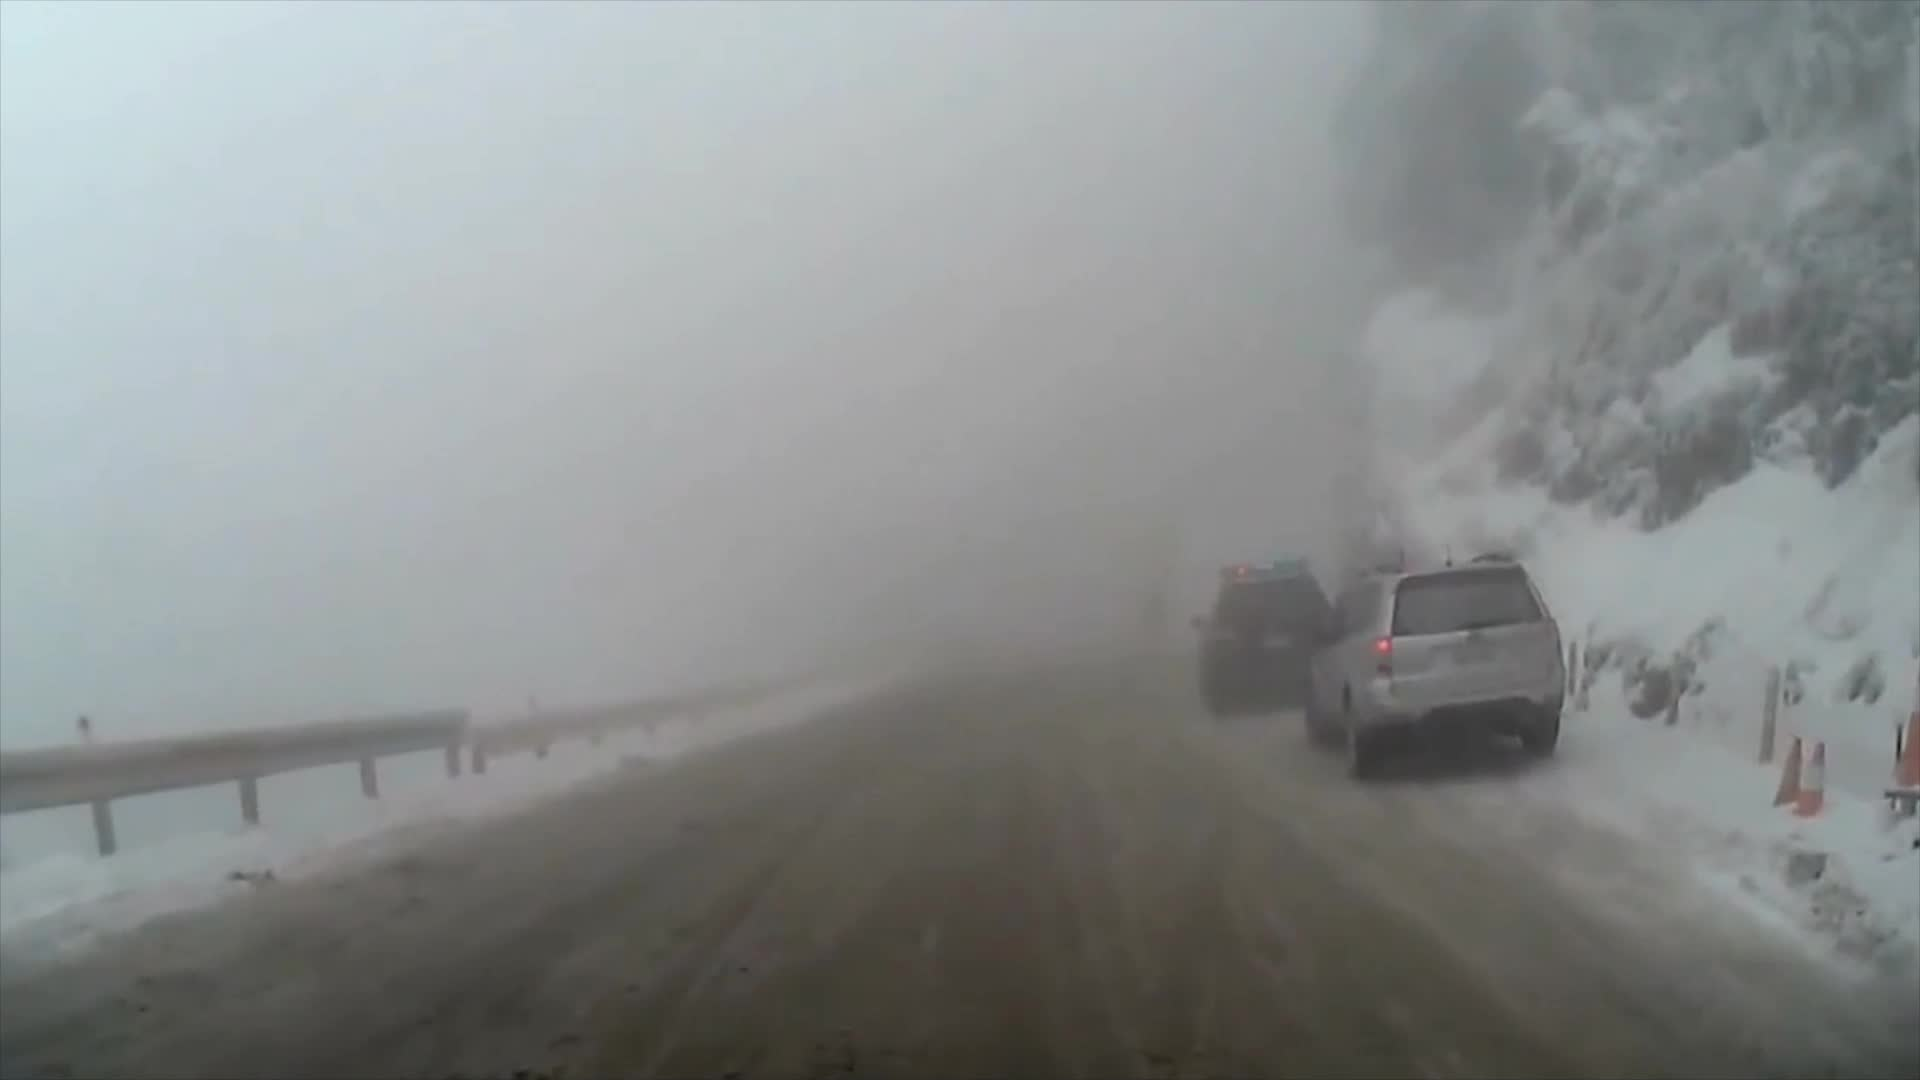vehicle: (1295, 543, 1563, 779), (1188, 555, 1341, 716)
